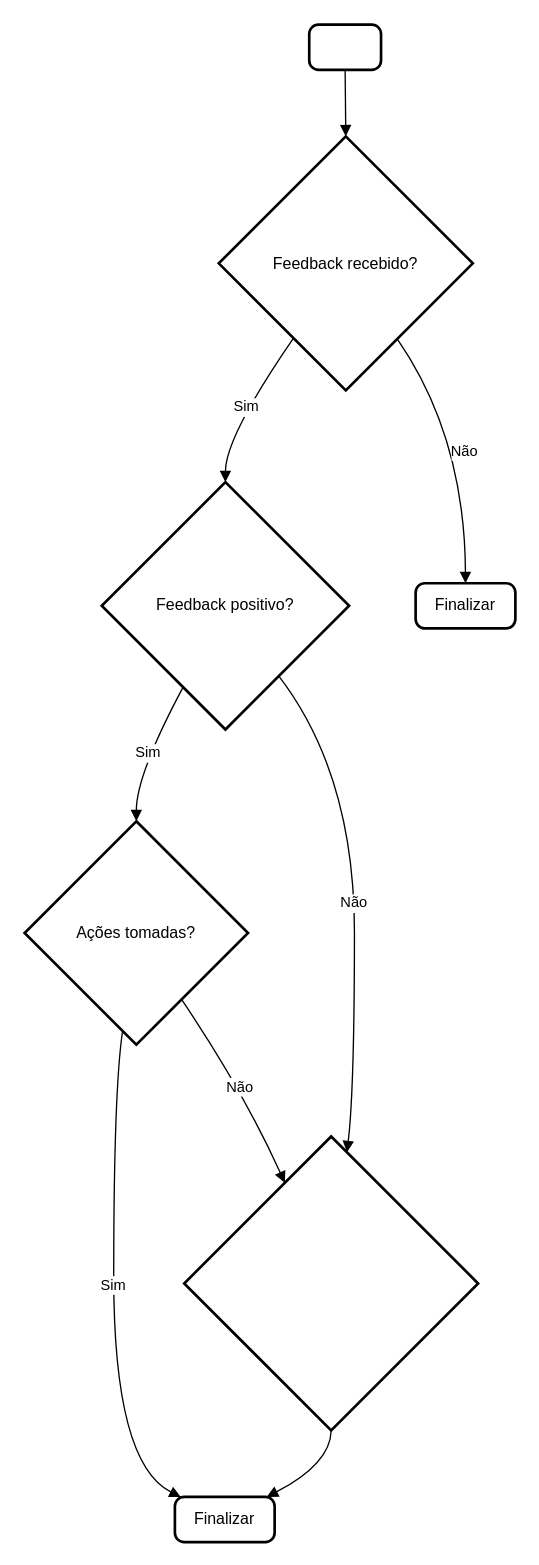
Some shapes in this 539 by 1565 pixel diagram are drawn without their labels. The centre of each missing label's shape, as x and y in pixels:
Encaminhar para equipe: (330,1282)
Início: (344,46)
